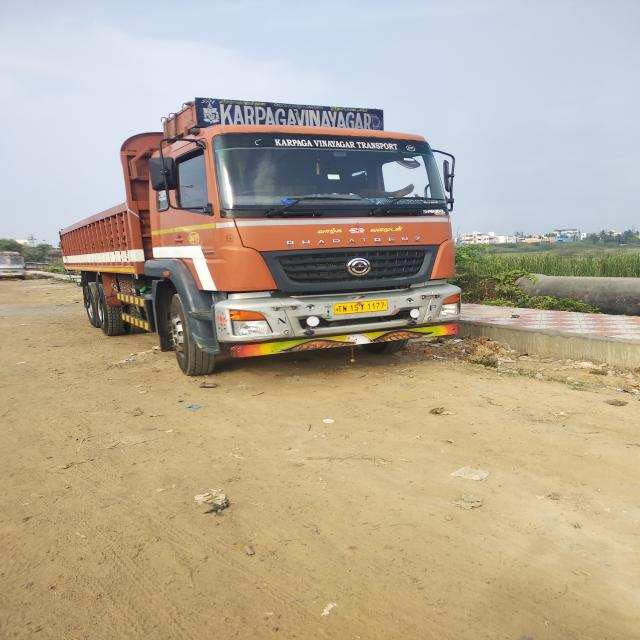truck: (57, 93, 464, 378)
